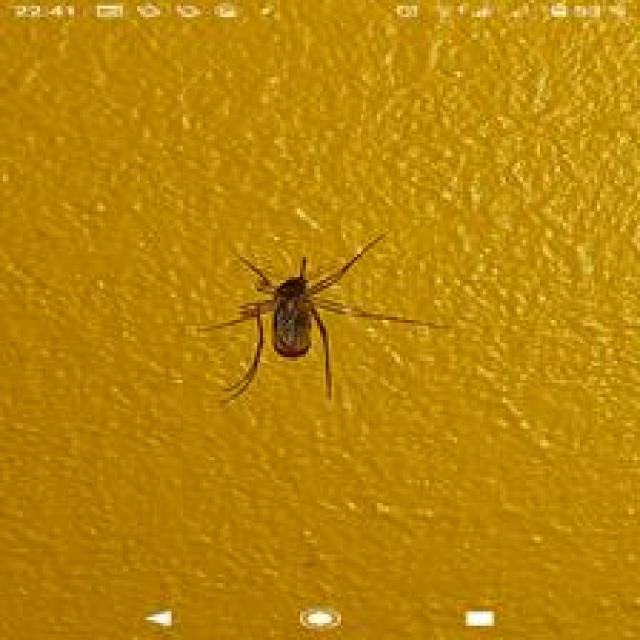Culex: (196, 227, 450, 407)
